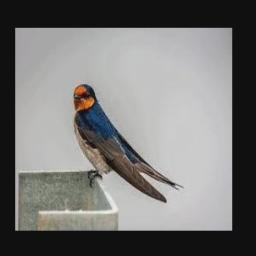Swallow: (74, 84, 184, 203)
